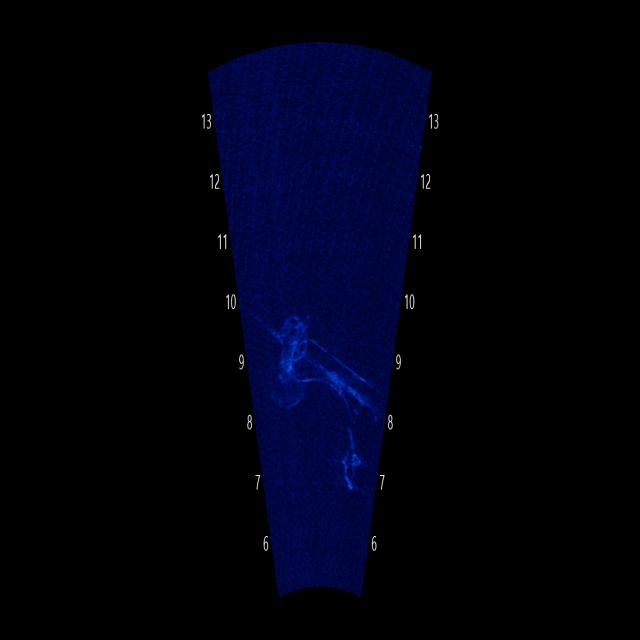circle: (277, 289, 314, 377)
